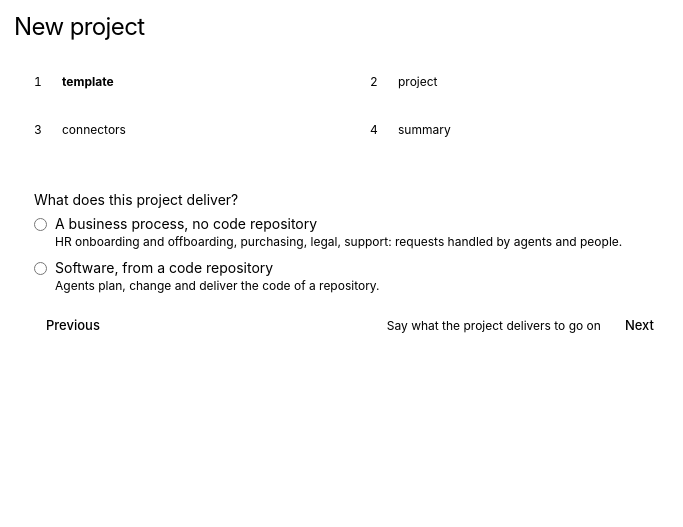
Test: the project creation wizard (S23-06) › a software project is asked for its repository and language
This screenshot has width=683, height=527.
Step 1. Click the radio button labelled "Software, from a code repository" → (40, 268), box x1=34 y1=262 x2=47 y2=275
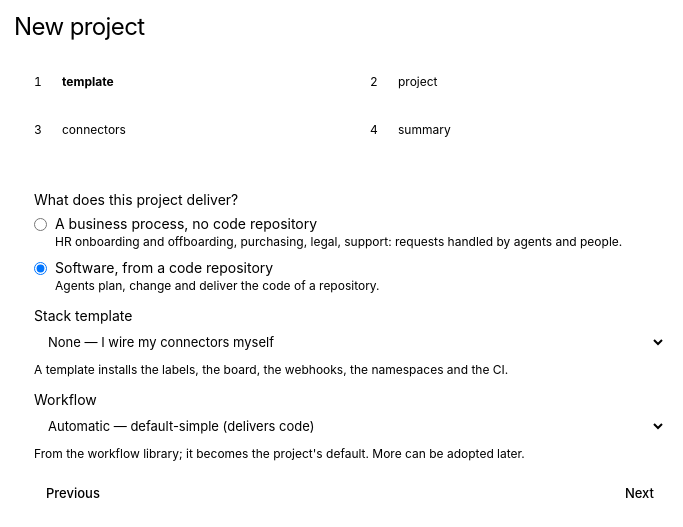
Check: the text "Stack template" is shown, box x1=34 y1=307 x2=132 y2=324
Step 2. Click the button "Next" → (639, 494), box x1=613 y1=478 x2=666 y2=510
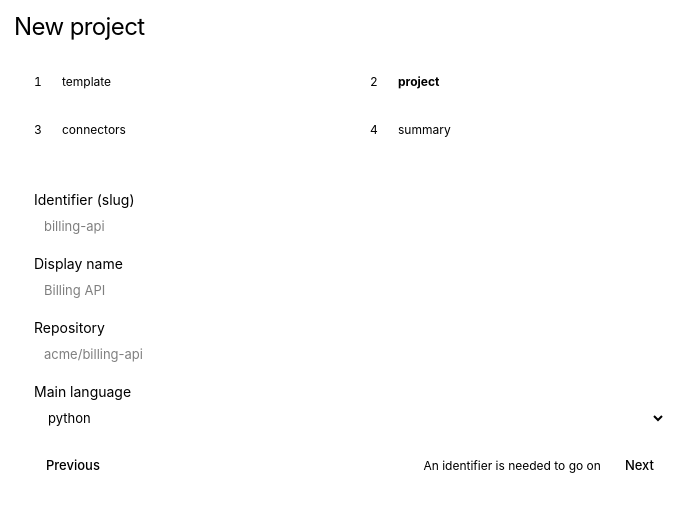
Check: the field labelled "Repository" is shown, box x1=34 y1=338 x2=666 y2=370
Check: the text "Main language" is shown, box x1=34 y1=383 x2=131 y2=400
